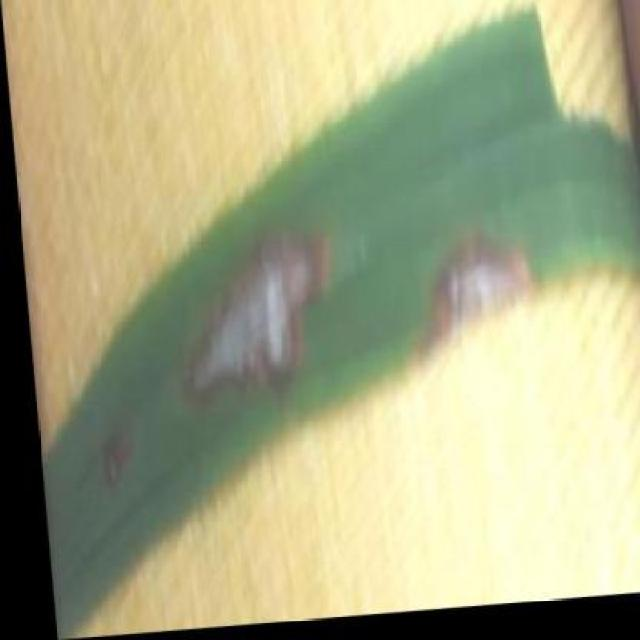Bacterial_Leaf_Blight: (168, 196, 354, 424), (425, 202, 553, 333), (86, 417, 139, 501)
